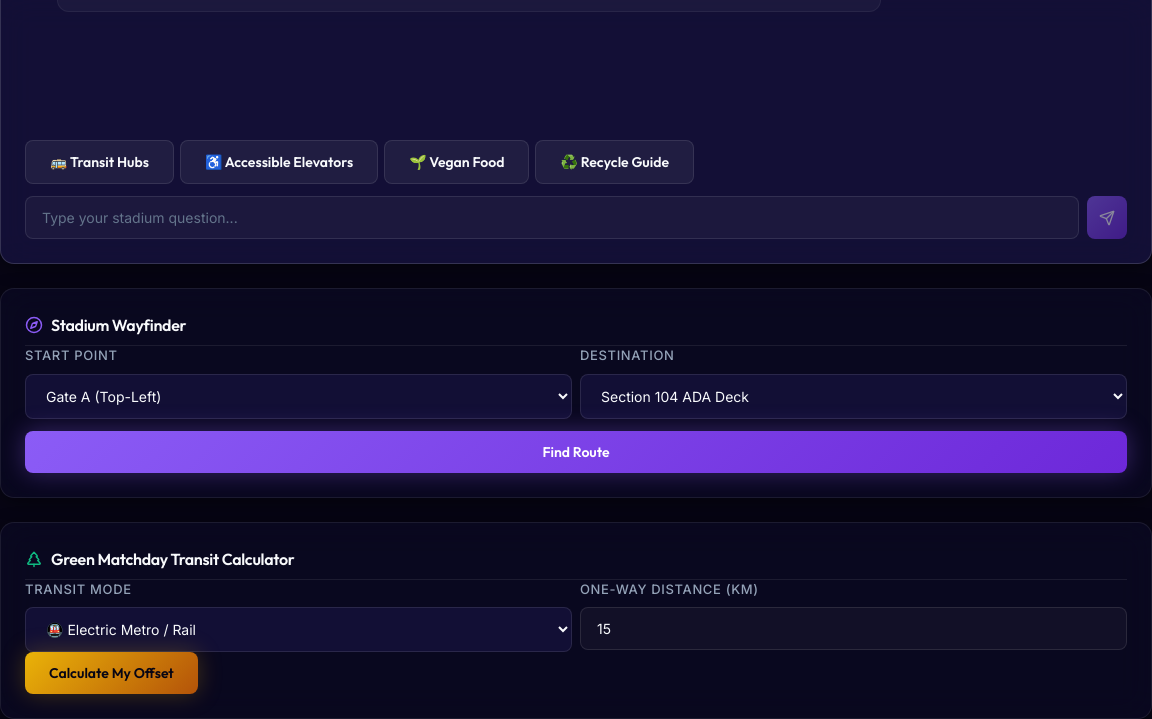
Test: Fan Companion Panel UI › calculates carbon offsets correctly for rail transit
The image size is (1152, 719).
(page scrolled)
Enter distance
Replace the text in the number field labelled "One-Way Distance (km)" with "20". click: [854, 628]
box: [580,607,1127,650]
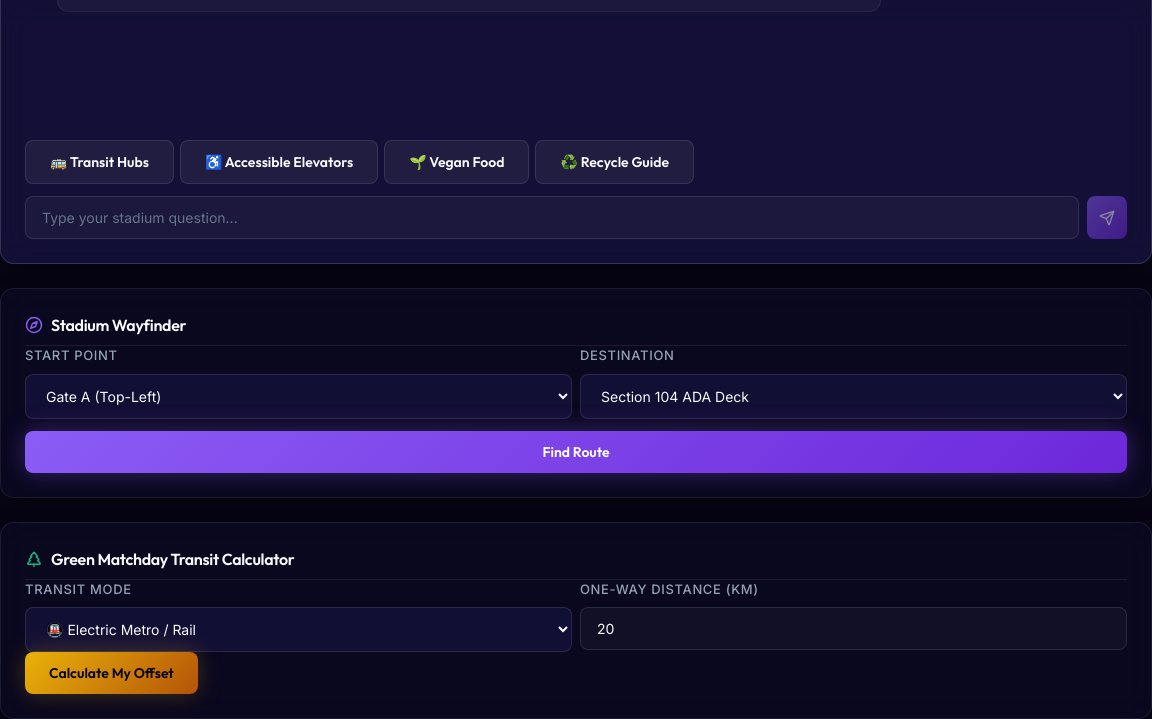
Select Metro Mode
Select "🚇 Electric Metro / Rail" in the dropdown labelled "Transit Mode". click: [298, 630]
box: [25,607,572,652]
Click Calculate
Click the button "Calculate My Offset". click: [111, 673]
box: [25,652,198,694]
(page scrolled)
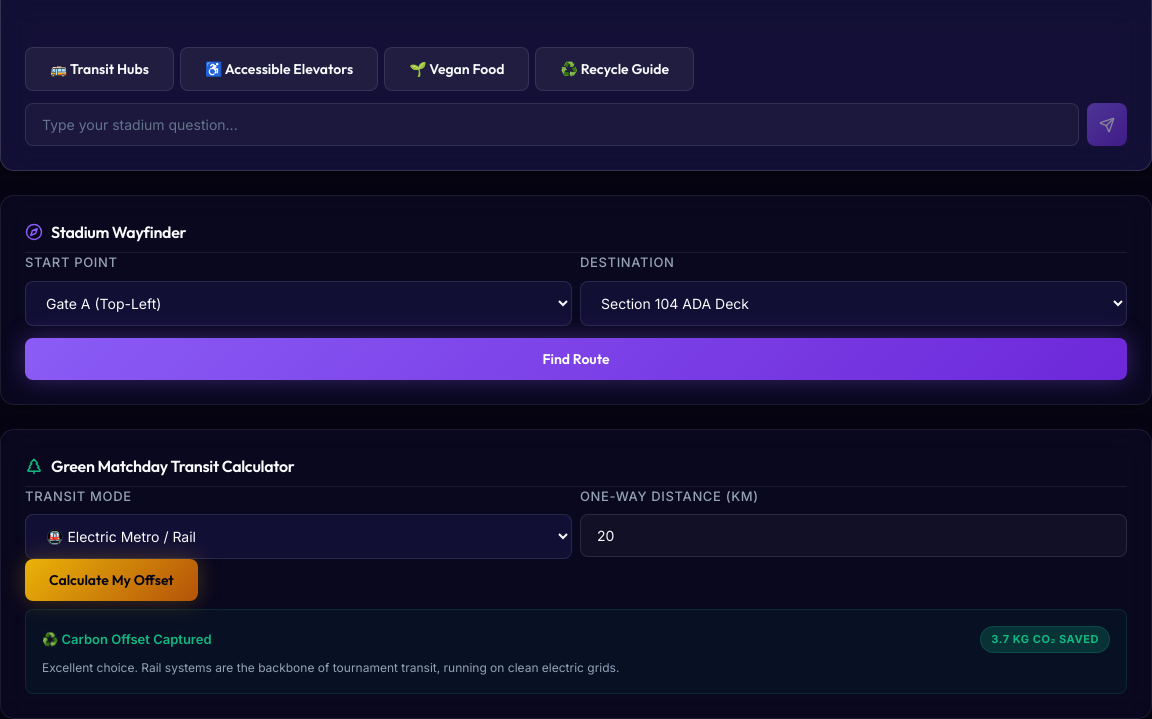
Now the text "3.7 kg CO₂ Saved" is shown, box [980,626,1110,652]
Now the text "Rail systems are the backbone" is shown, box [42,660,619,674]
